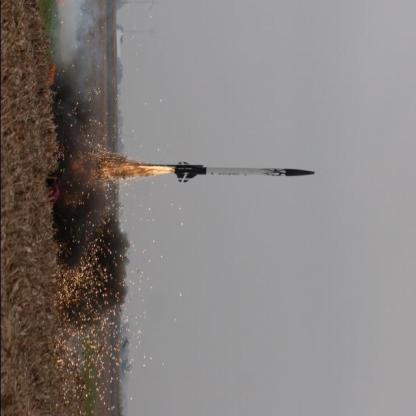MIL_TBM: (173, 159, 316, 184)
